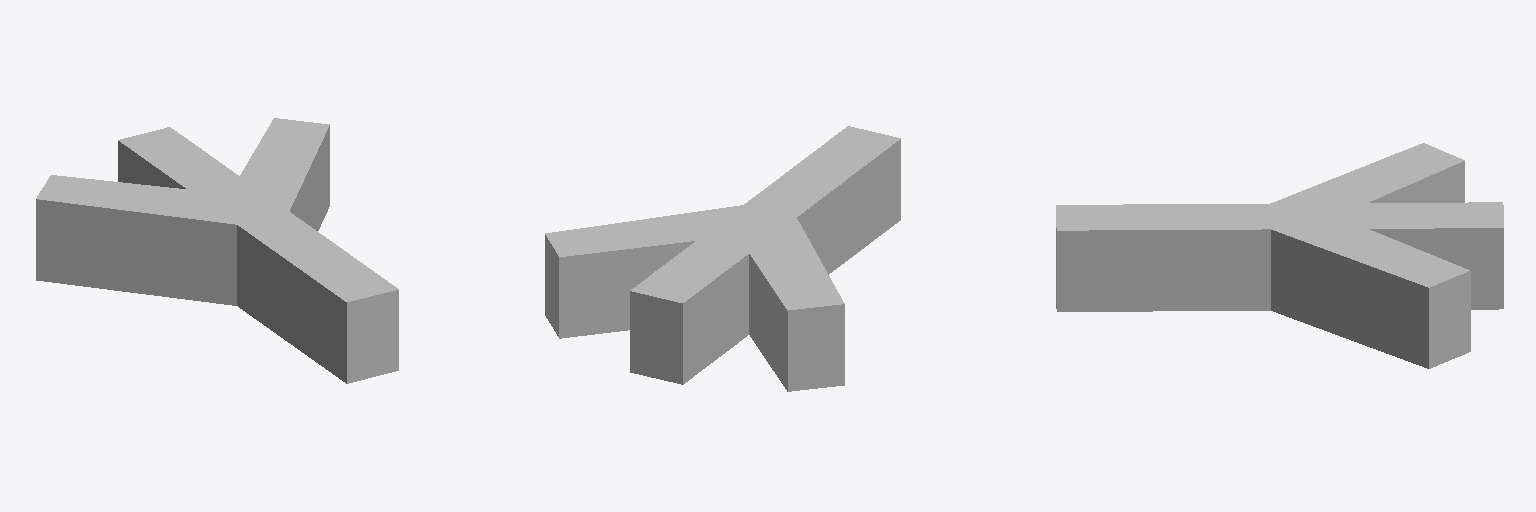
Rendered from Algiz.obj.
The picture shows the model from 3 angles: view 1: azimuth 30°, elevation 25°; view 2: azimuth 150°, elevation 25°; view 3: azimuth 270°, elevation 25°; orthographic projection.
Parts seen in each view (by area): view 1: Algiz; view 2: Algiz; view 3: Algiz.
Boxes of the visible parts, box(x1,y1,x2,y2) form: Algiz: box(36, 118, 398, 383); Algiz: box(545, 126, 900, 391); Algiz: box(1056, 143, 1503, 368).
Size of the model in its own units: 0.3928 by 0.1028 by 0.5133.